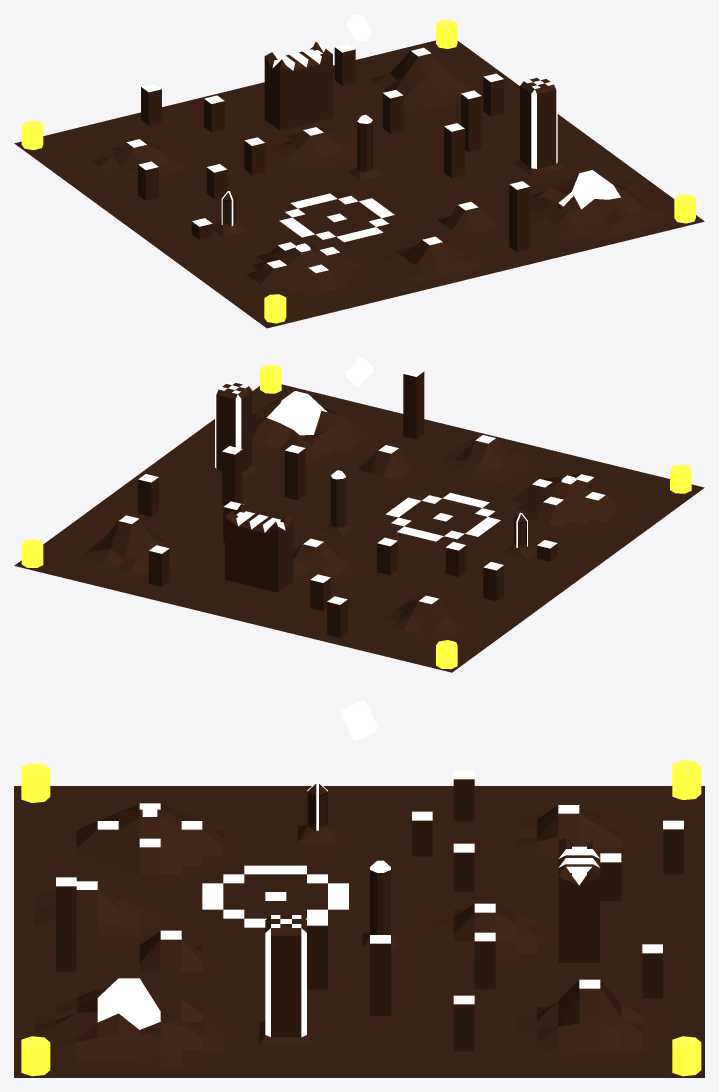
3 renders of one model, top to bottom at view 1: azimuth 30°, elevation 25°; view 2: azimuth 150°, elevation 25°; view 3: azimuth 270°, elevation 25°, orthographic. The views are drawn at different scales.
Parts seen in each view (by area): view 1: Floor_0, Cylinder guard 3_4, Cylinder guard 2_1, Cylinder guard 4_3, Cylinder guard_2; view 2: Floor_0, Cylinder guard_2, Cylinder guard 4_3, Cylinder guard 3_4, Cylinder guard 2_1, Cylinder sun_5; view 3: Floor_0, Cylinder guard_2, Cylinder guard 4_3, Cylinder guard 3_4, Cylinder guard 2_1, Cylinder sun_5.
Part boxes in pixels (x1,y1,x2,y2): Floor_0: [14, 40, 704, 328]; Cylinder guard 3_4: [264, 294, 286, 323]; Cylinder guard 2_1: [21, 121, 43, 149]; Cylinder guard 4_3: [674, 194, 695, 223]; Cylinder guard_2: [436, 20, 457, 48]; Floor_0: [14, 368, 704, 672]; Cylinder guard_2: [21, 539, 43, 567]; Cylinder guard 4_3: [260, 364, 281, 393]; Cylinder guard 3_4: [670, 464, 691, 493]; Cylinder guard 2_1: [436, 640, 457, 669]; Cylinder sun_5: [345, 357, 373, 386]; Floor_0: [14, 770, 704, 1077]; Cylinder guard_2: [672, 1036, 701, 1076]; Cylinder guard 4_3: [21, 1036, 50, 1076]; Cylinder guard 3_4: [21, 763, 50, 802]; Cylinder guard 2_1: [672, 760, 701, 799]; Cylinder sun_5: [341, 701, 377, 740].
Size of the model in its own units: 45.25 by 16.57 by 45.25.
